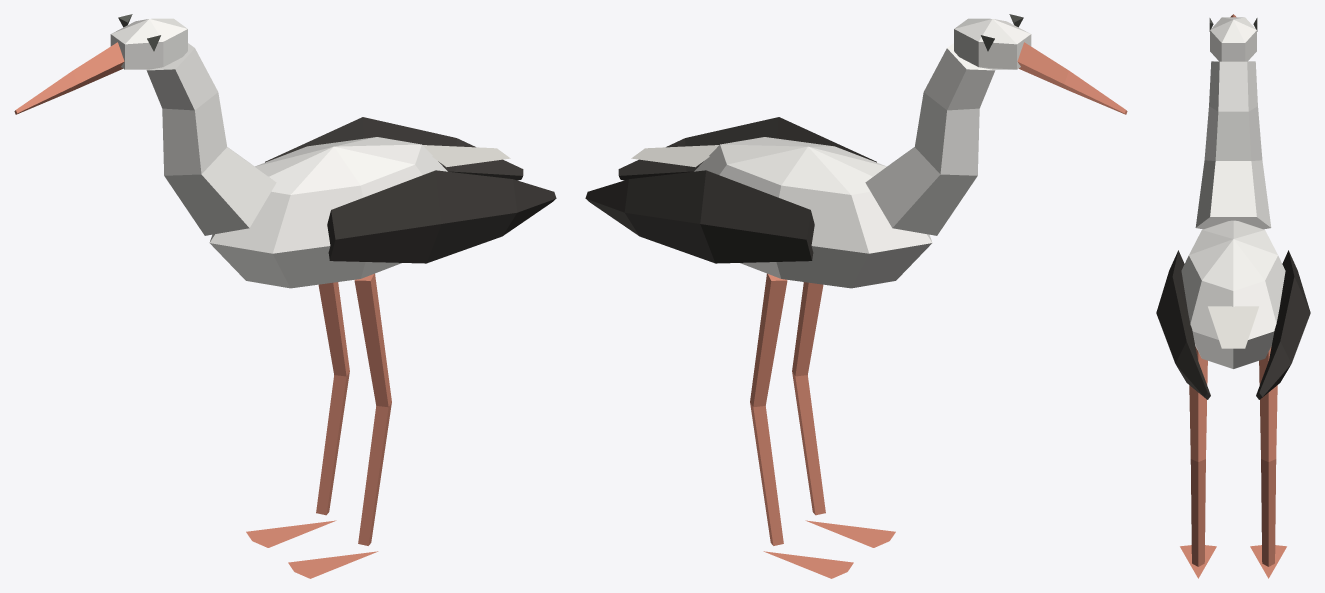
File: stork.glb
3 views of the same model, side by side, from view 1: azimuth 30°, elevation 25°; view 2: azimuth 150°, elevation 25°; view 3: azimuth 270°, elevation 25° (orthographic). The views are drawn at different scales.
Visible parts, largest first — view 1: body_black, Body, Long_Neck, Leg_L, Leg_R, Head, Red_Bill, White_Tail, Foot_L, Foot_R; view 2: body_black, Body, Long_Neck, Leg_R, Leg_L, Head, Red_Bill, White_Tail, Foot_R, Foot_L; view 3: Body, Long_Neck, body_black, Leg_L, Leg_R, Head, White_Tail, Foot_L, Foot_R.
Part boxes in pixels (x1=…): body_black: x1=265, y1=117, x2=556, y2=263; Body: x1=209, y1=137, x2=447, y2=288; Long_Neck: x1=146, y1=43, x2=276, y2=235; Leg_L: x1=354, y1=273, x2=391, y2=545; Leg_R: x1=316, y1=282, x2=349, y2=515; Head: x1=110, y1=18, x2=187, y2=69; Red_Bill: x1=14, y1=42, x2=124, y2=114; White_Tail: x1=423, y1=145, x2=510, y2=167; Foot_L: x1=288, y1=551, x2=378, y2=578; Foot_R: x1=246, y1=520, x2=336, y2=547; body_black: x1=585, y1=117, x2=876, y2=263; Body: x1=694, y1=137, x2=932, y2=288; Long_Neck: x1=865, y1=43, x2=995, y2=235; Leg_R: x1=750, y1=273, x2=787, y2=545; Leg_L: x1=792, y1=282, x2=825, y2=515; Head: x1=954, y1=18, x2=1031, y2=69; Red_Bill: x1=1017, y1=42, x2=1127, y2=114; White_Tail: x1=631, y1=145, x2=718, y2=167; Foot_R: x1=763, y1=551, x2=853, y2=578; Foot_L: x1=805, y1=520, x2=895, y2=547; Body: x1=1181, y1=220, x2=1285, y2=368; Long_Neck: x1=1195, y1=61, x2=1271, y2=229; body_black: x1=1156, y1=250, x2=1310, y2=399; Leg_L: x1=1189, y1=346, x2=1207, y2=566; Leg_R: x1=1259, y1=346, x2=1277, y2=566; Head: x1=1210, y1=17, x2=1256, y2=61; White_Tail: x1=1208, y1=306, x2=1258, y2=348; Foot_L: x1=1180, y1=545, x2=1216, y2=578; Foot_R: x1=1250, y1=545, x2=1286, y2=578.
Size of the model in its own units: 0.431 by 0.447 by 0.132.
